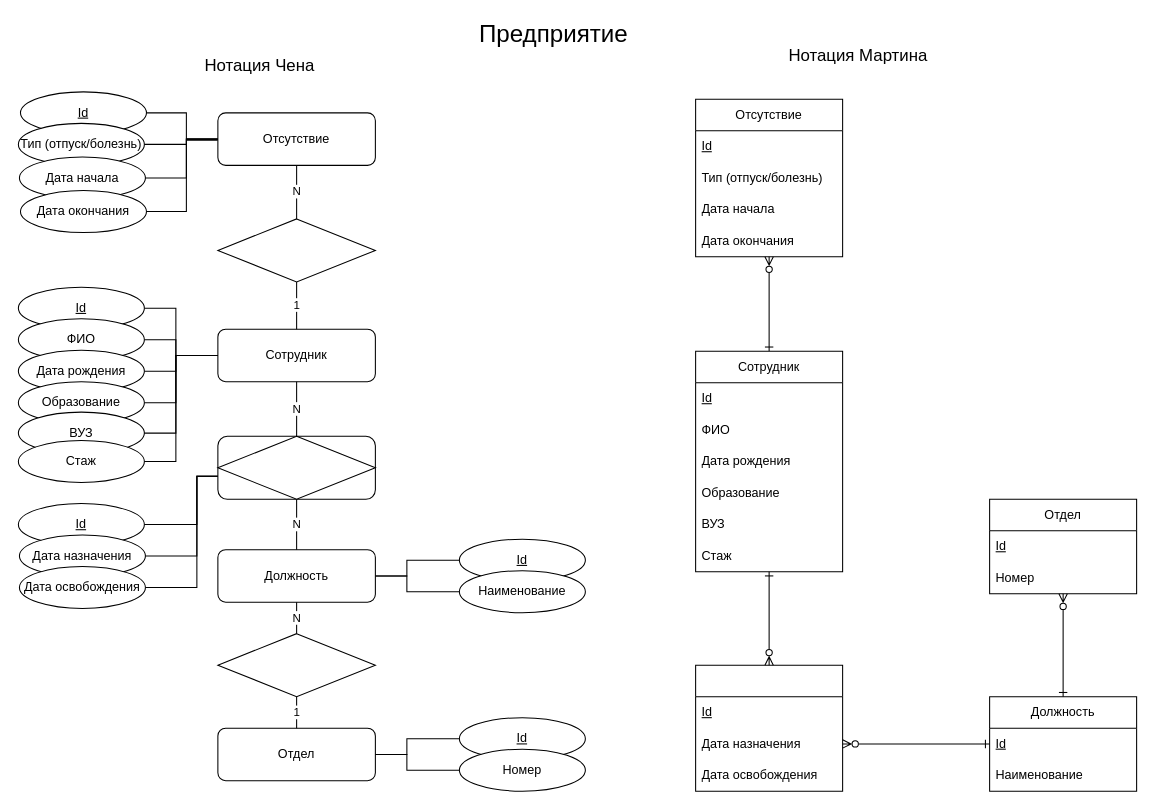
This 1155x810 diagram has some shape labels left out. The box of each missing label's shape, as (x1, y1, x2, y2) in pixels:
Имеется: (217, 633, 375, 697)
Назначен: (217, 435, 375, 499)
Назначение: (695, 664, 843, 791)
Находится: (217, 218, 375, 282)
